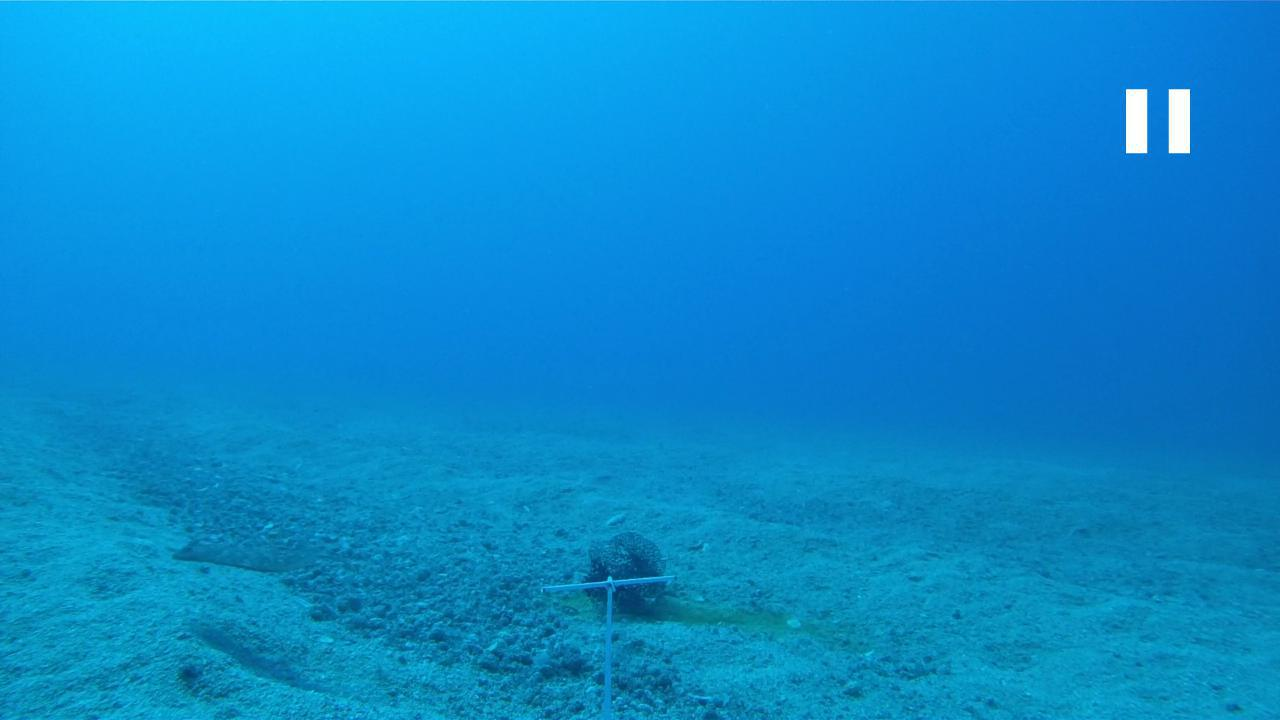bothus: (168, 533, 319, 570)
